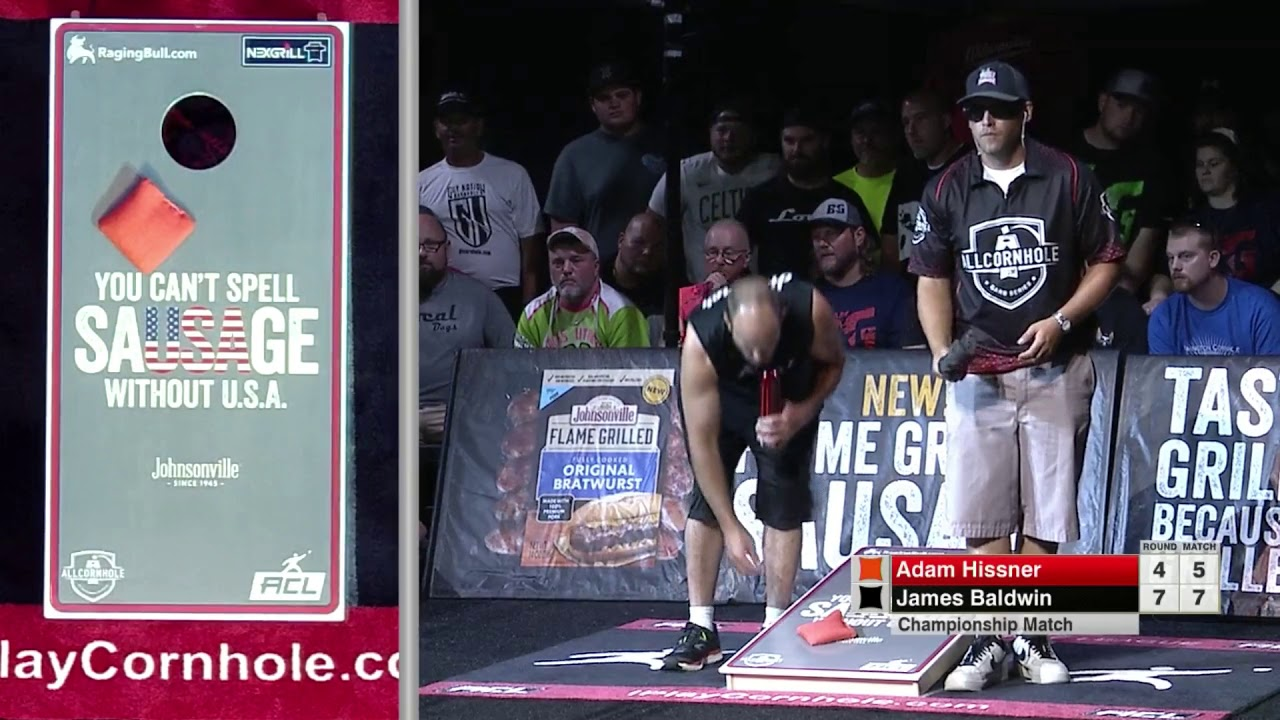Cornhole Board: (47, 21, 351, 623)
